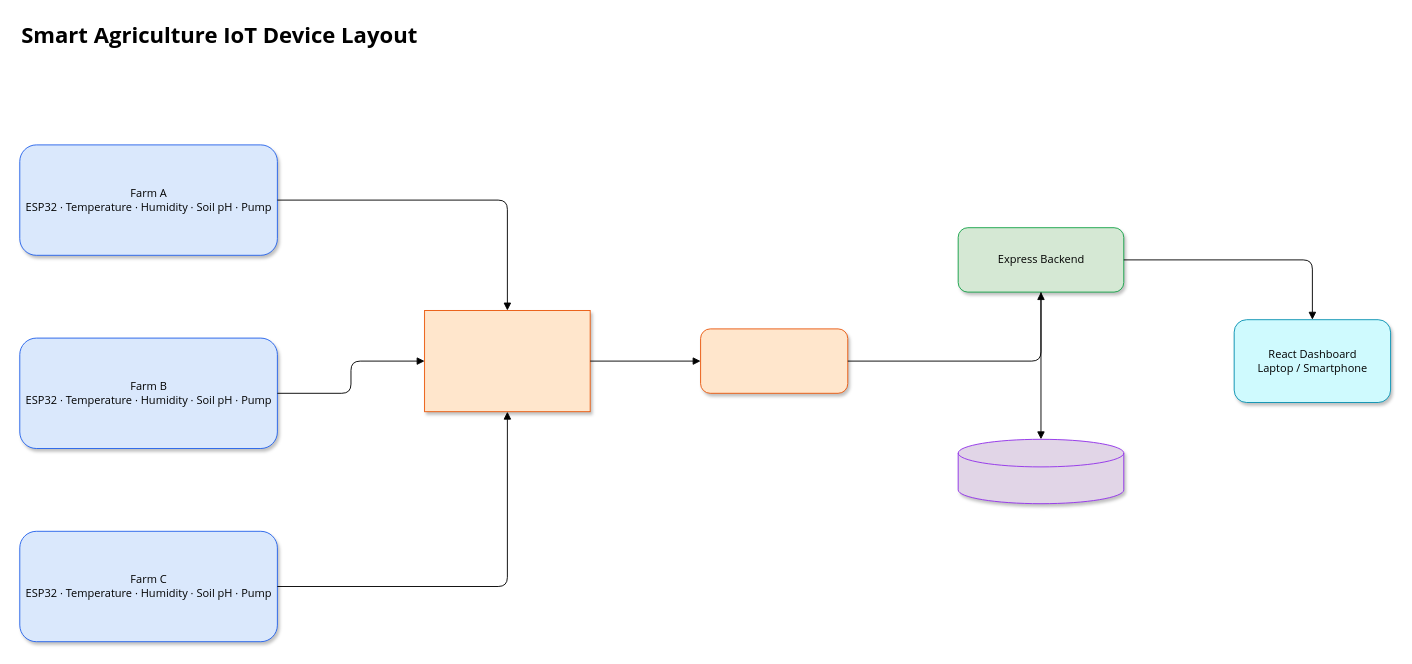
Image size: 1412x664. Some labels were removed from this diagram. Each missing label, with the centre of its shape:
"MongoDB" goes at [1041,472].
"MQTT Broker" goes at [774,362].
"WiFi / Internet" goes at [508,362].
